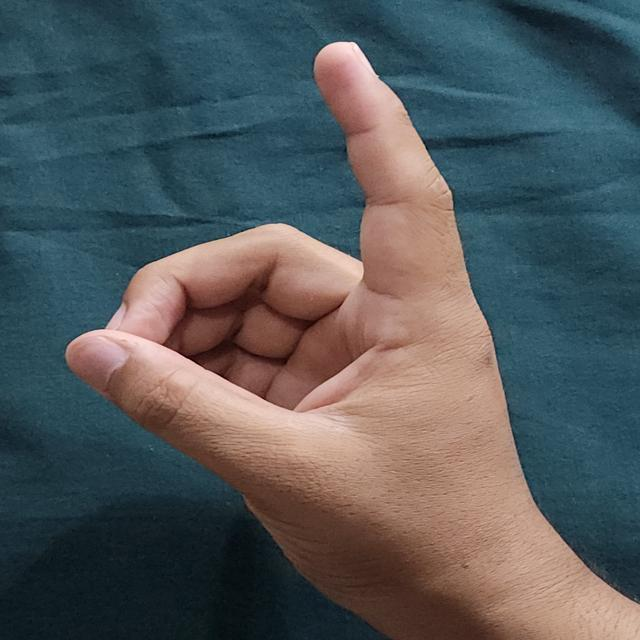ح: (53, 28, 640, 640)
